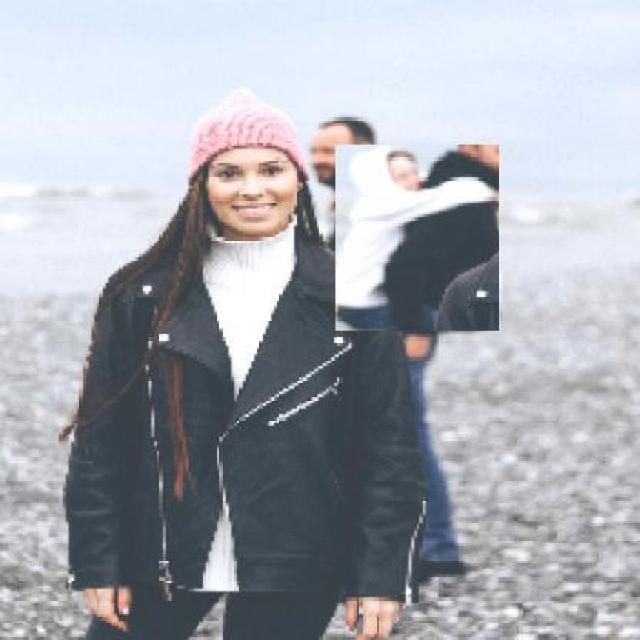child: (334, 145, 500, 332)
